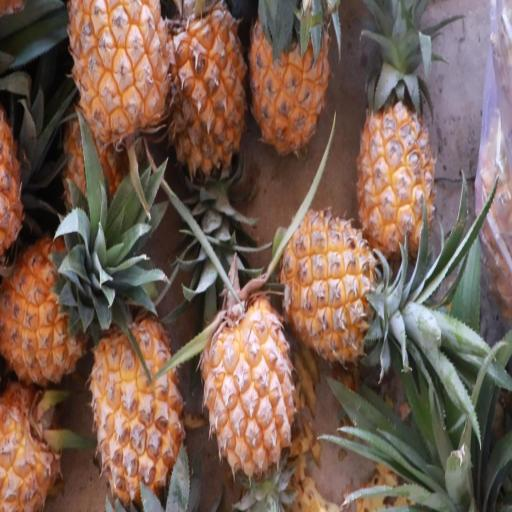Pineapple - v8 v1: (352, 13, 440, 255), (85, 307, 185, 510), (198, 293, 298, 485), (281, 204, 394, 369), (156, 0, 251, 182), (66, 0, 175, 156), (1, 225, 91, 394), (246, 0, 333, 163)
